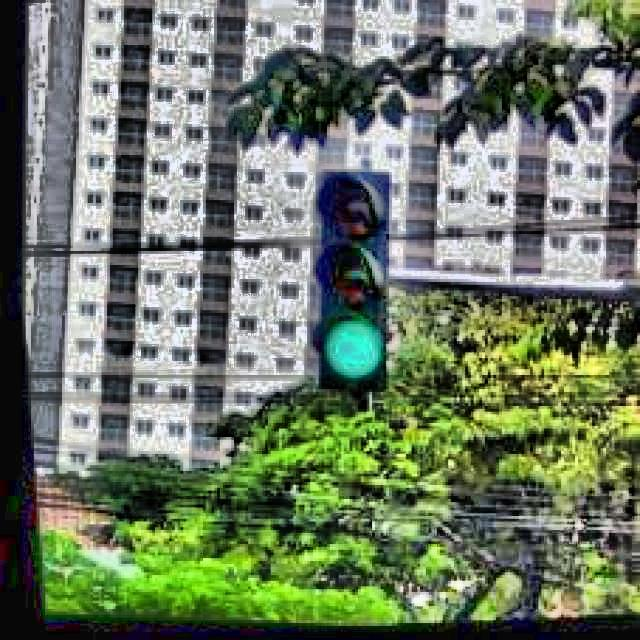green: (315, 169, 392, 394)
